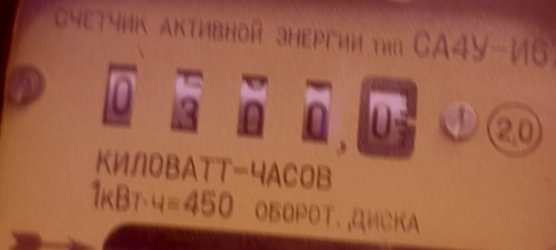0: (108, 71, 135, 119), (302, 98, 330, 143), (367, 98, 394, 143), (239, 96, 265, 139)
3: (174, 93, 200, 133)
screen: (79, 39, 440, 177)
